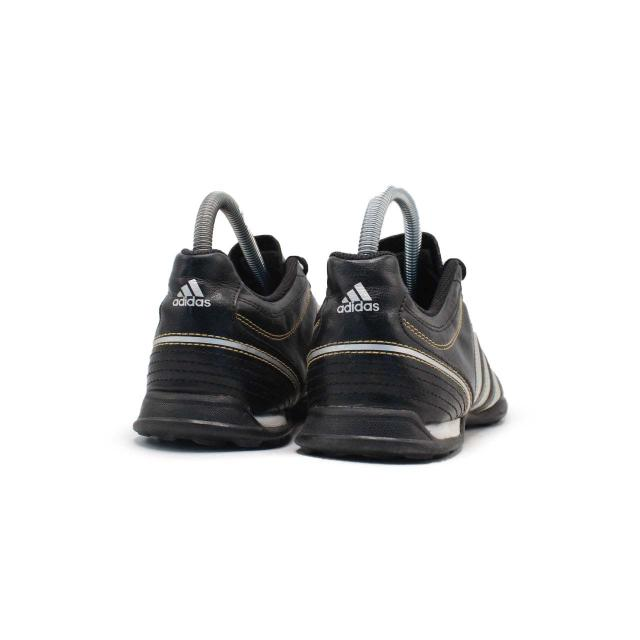heel: (120, 229, 293, 402), (286, 244, 458, 416)
midsole: (127, 394, 300, 441), (298, 409, 466, 451)
